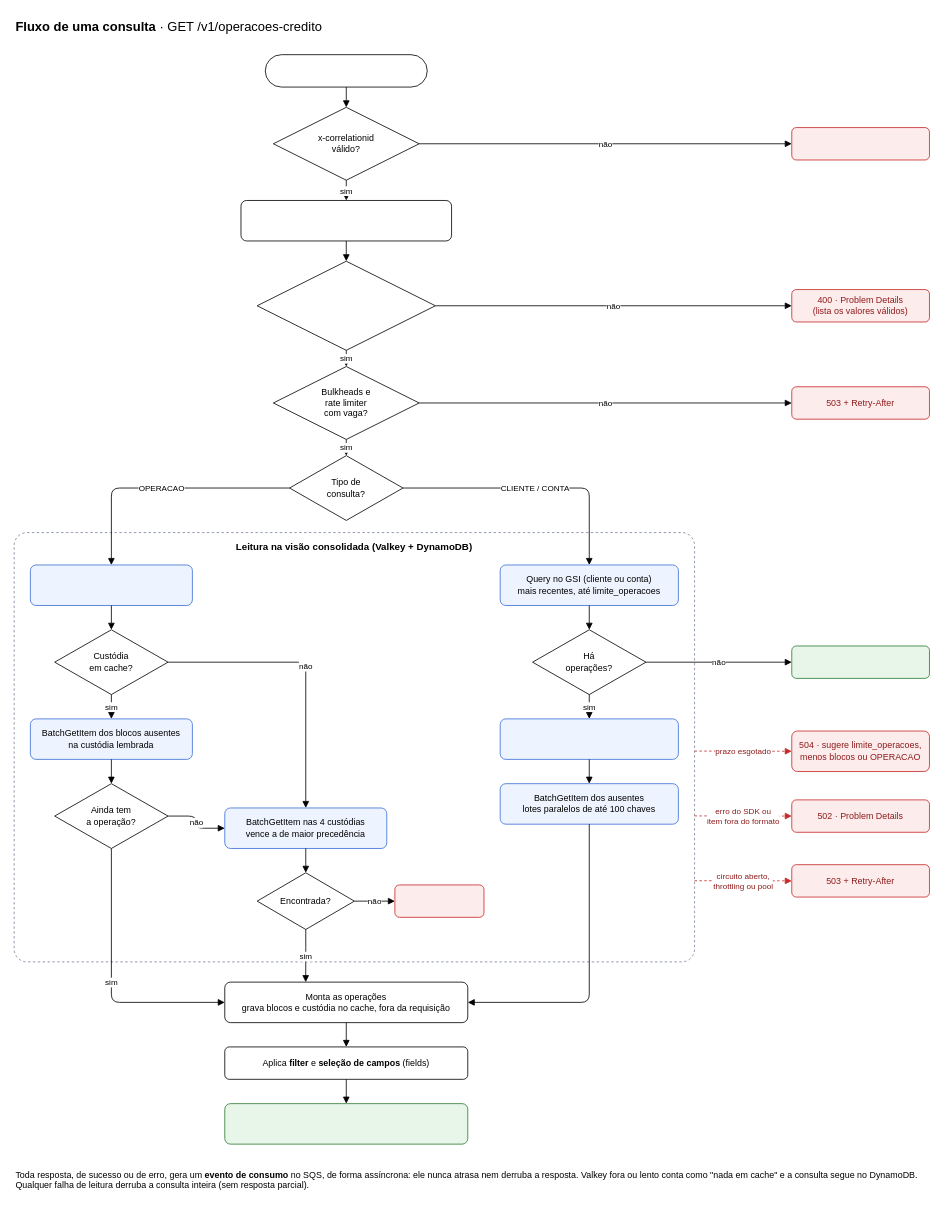
Image size: 944x1218. Some labels were removed from this diagram. The centre of each missing label's shape, as x and y in pixels:
200 · bloco ausente volta null e entra em x-blocos-indisponiveis: the point at 346,1123
200 · {"data": []}: the point at 860,661
400 · Problem Details: the point at 860,143
404 · operação não encontrada: the point at 439,900
GET /v1/operacoes-credito: the point at 345,70
Inicia o prazo da requisição OPERACAO 150 ms · CLIENTE/CONTA 400 ms: the point at 346,220
MGET no Valkey blocos + custódia (fail-open): the point at 111,584
MGET no Valkey dos blocos (fail-open): the point at 588,738
Parâmetros válidos? tipo, chave, expand, fields, filter: the point at 345,305
